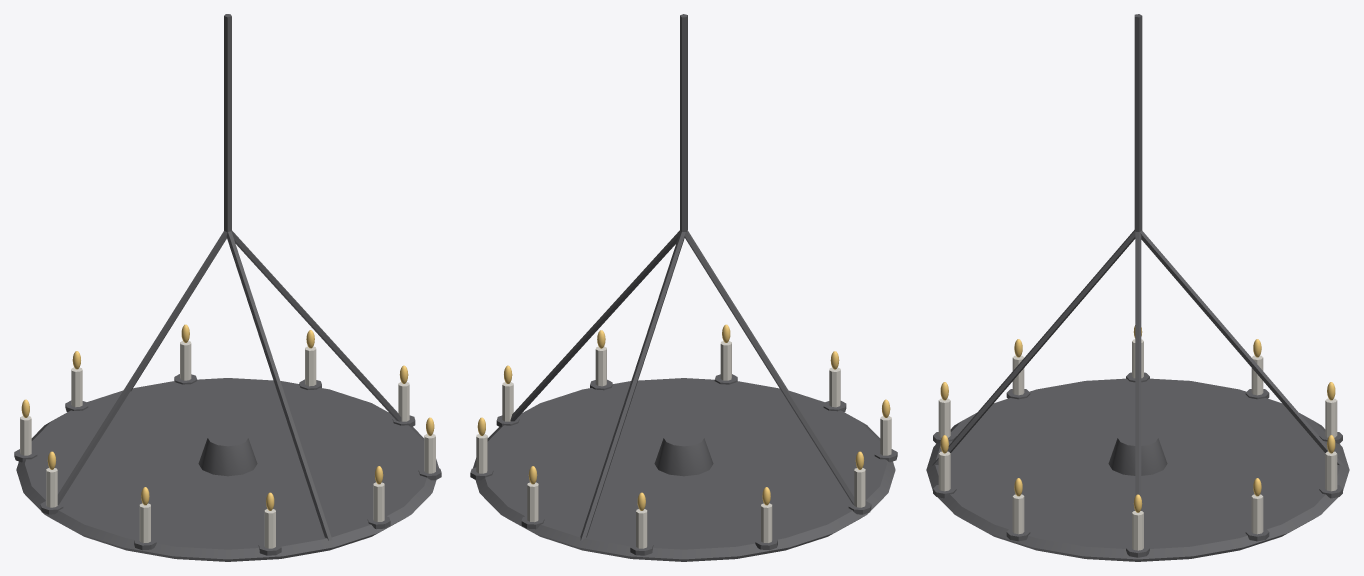
File: hub_chandelier.gltf
3 renders of one model, left to right at view 1: azimuth 30°, elevation 25°; view 2: azimuth 150°, elevation 25°; view 3: azimuth 270°, elevation 25°, orthographic.
Visible parts, largest first — view 1: Body; view 2: Body; view 3: Body.
Part boxes in pixels (x1,y1,x2,y2): Body: [14, 14, 441, 561]; Body: [470, 14, 897, 561]; Body: [926, 14, 1349, 561].
Bounding box in the file's own units: 2.54 × 3.3 × 2.5.
